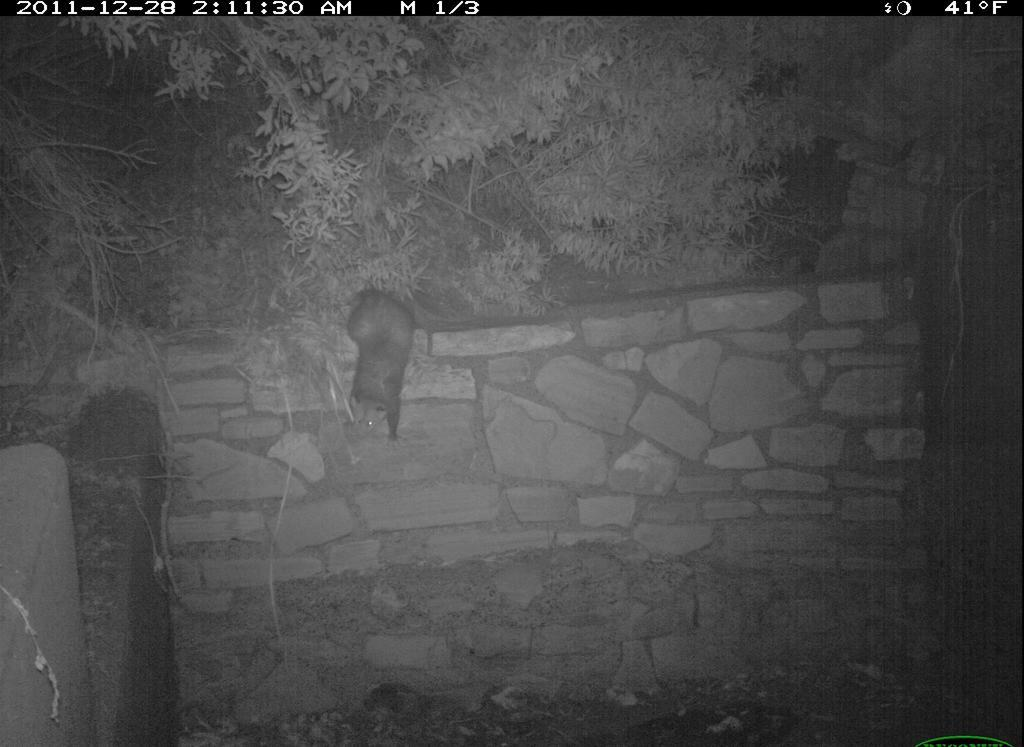opossum: (338, 272, 437, 469)
